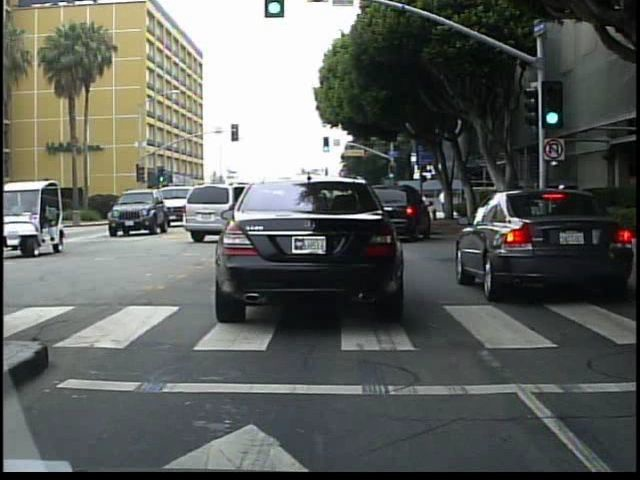person: (535, 174, 555, 231), (434, 186, 448, 218)
